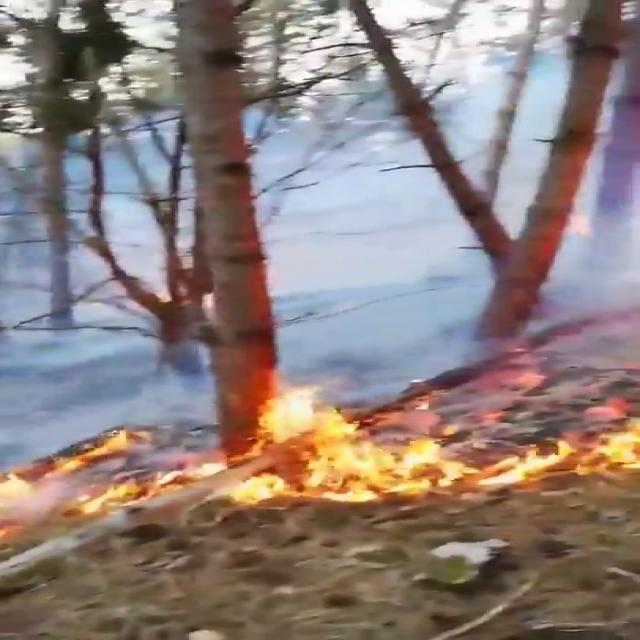Fire: (17, 367, 638, 511)
Smoke: (34, 15, 640, 371)
